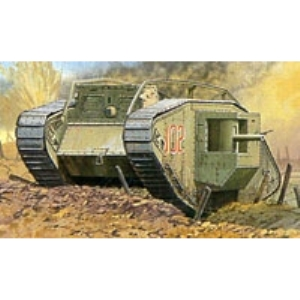Battle Tank: (15, 76, 284, 221)
